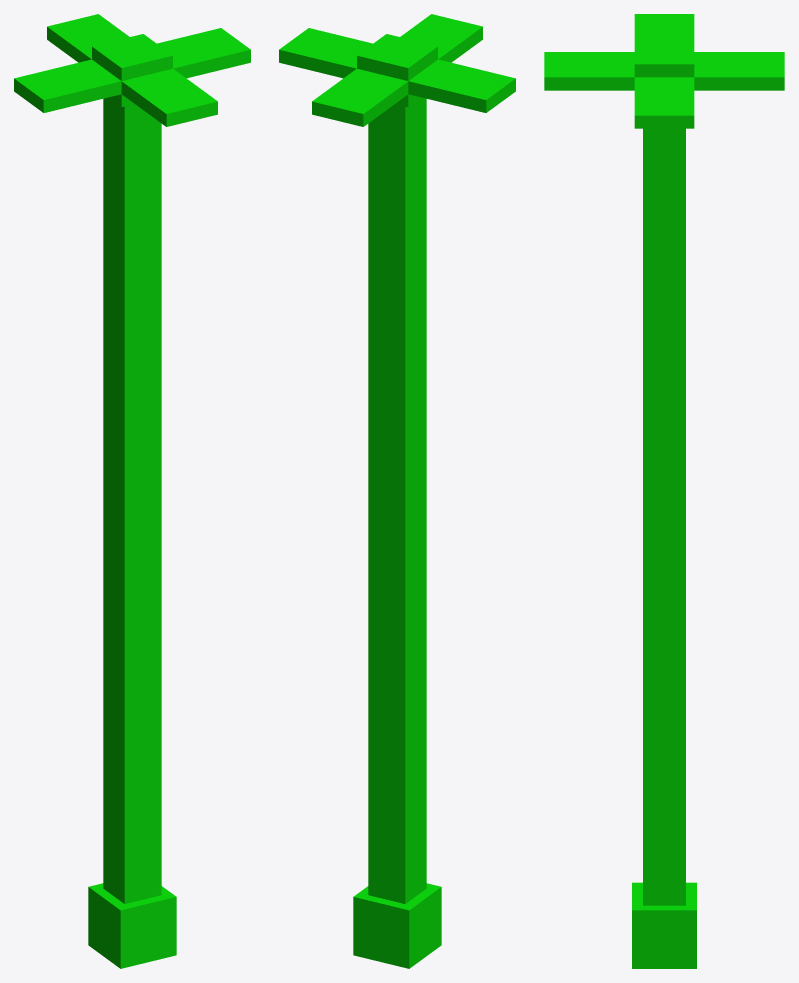
The model's file is poste.fbx.
The picture shows the model from 3 angles, left to right: view 1: azimuth 30°, elevation 25°; view 2: azimuth 150°, elevation 25°; view 3: azimuth 270°, elevation 25°; orthographic projection.
Visible parts, largest first — view 1: poste; view 2: poste; view 3: poste.
Part boxes in pixels (x1=…): poste: x1=14, y1=14, x2=250, y2=968; poste: x1=279, y1=14, x2=515, y2=968; poste: x1=544, y1=14, x2=784, y2=968.
Size of the model in its own units: 133 by 552 by 133.
